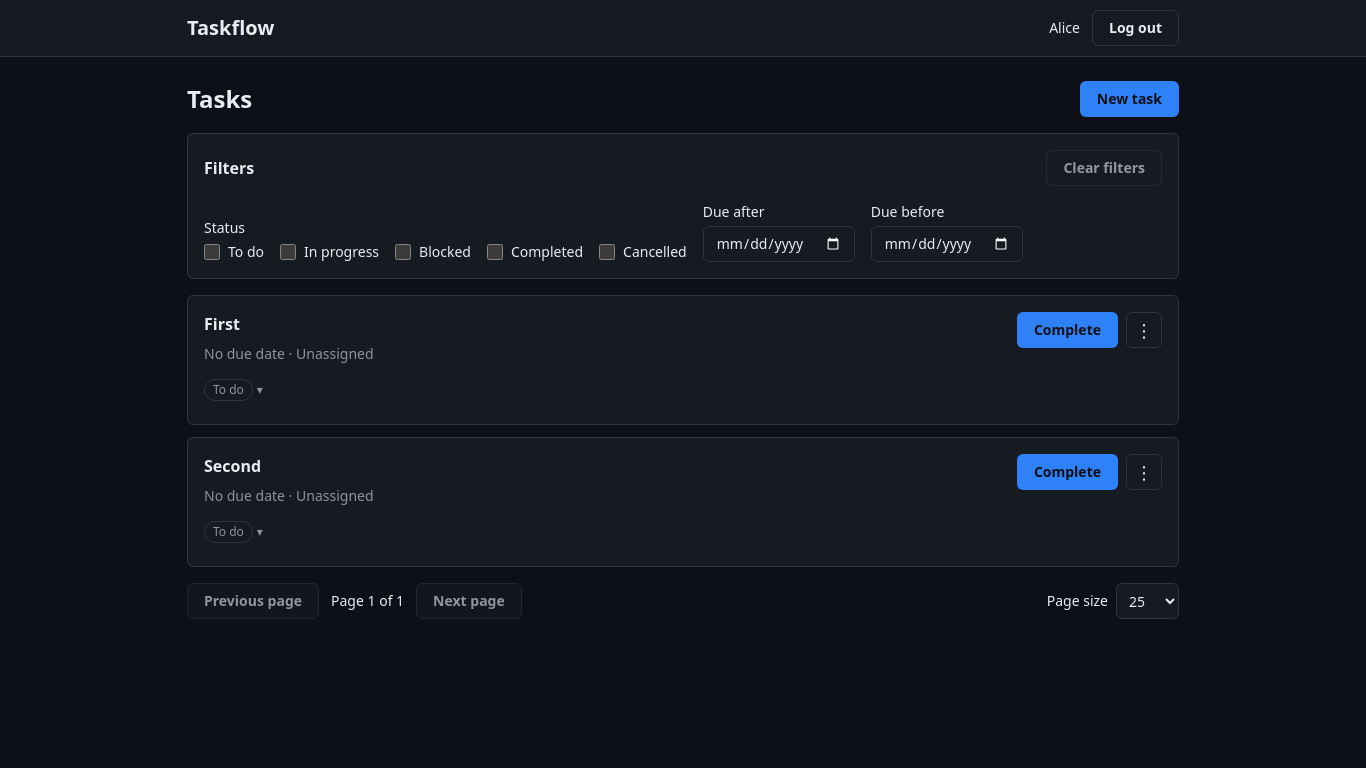
it: card actions menu › test_ac03_clicking_outside_closes_the_menu_and_opening_another_closes_the_first
What coordinates should you click on to do the following:
click the button named "actions for"
I would click on:
 (1144, 330)
Its box is [1126,312,1162,348].
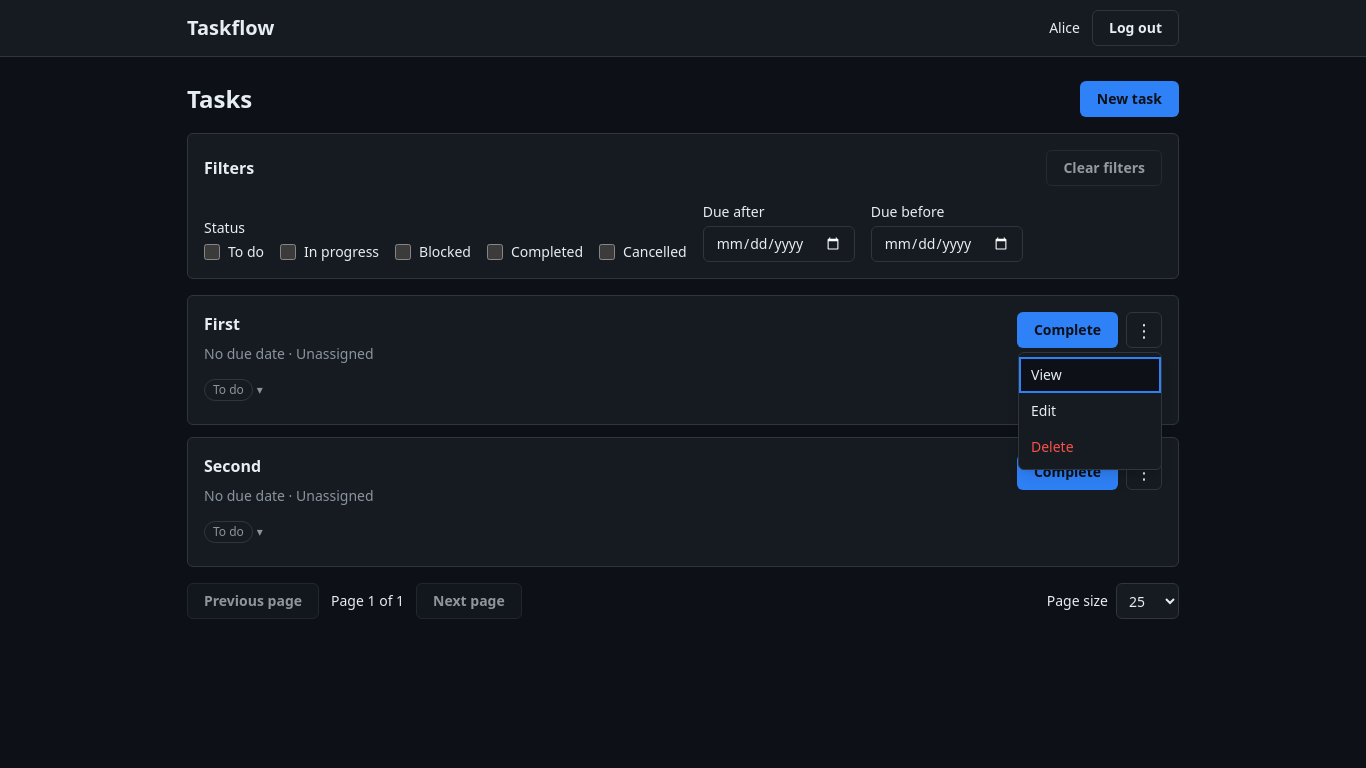
What coordinates should you click on to do the following:
click the button named "actions for"
I would click on:
 (1144, 472)
Its box is [1126,454,1162,490].
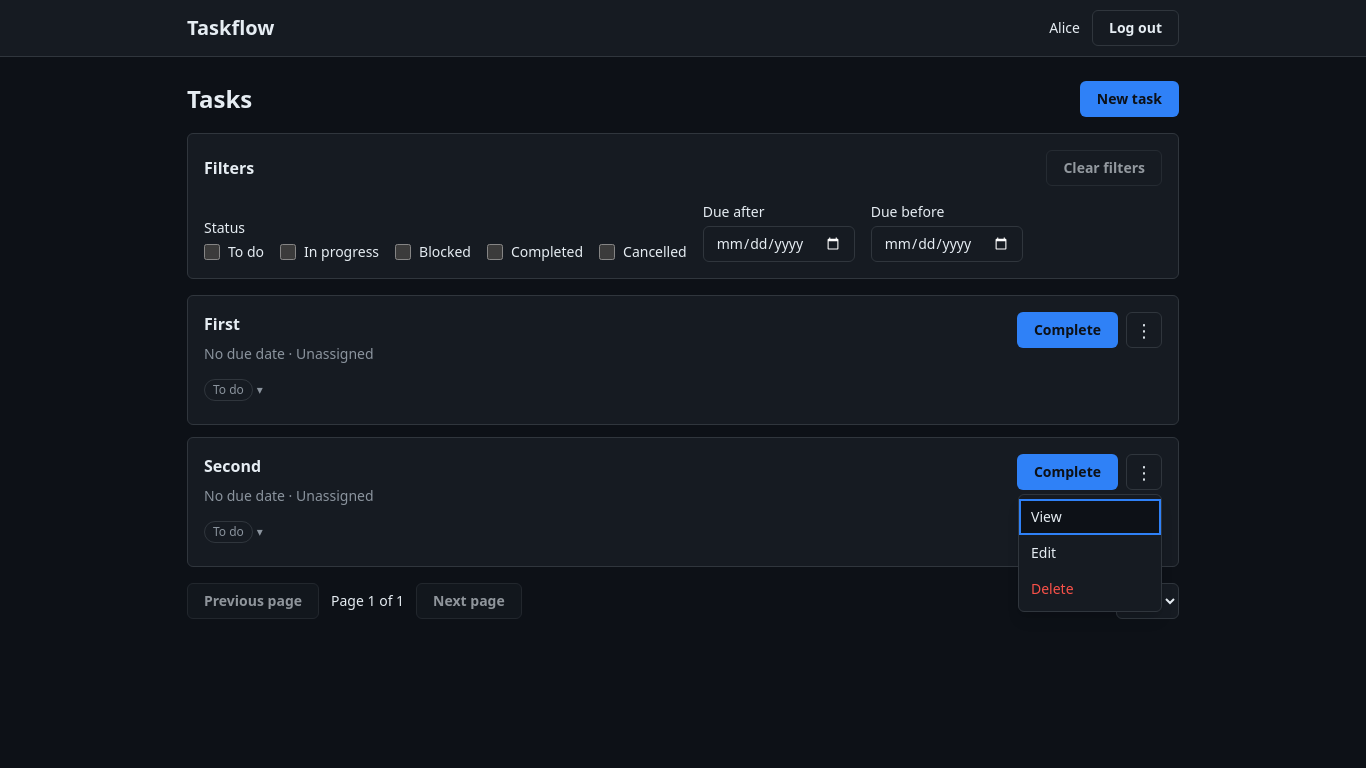
Now the number of menus is 1, box [1018,494,1162,612]
What coordinates should you click on to do the following:
click the heading "Tasks"
I would click on:
 (220, 99)
Its box is [187,83,252,115].
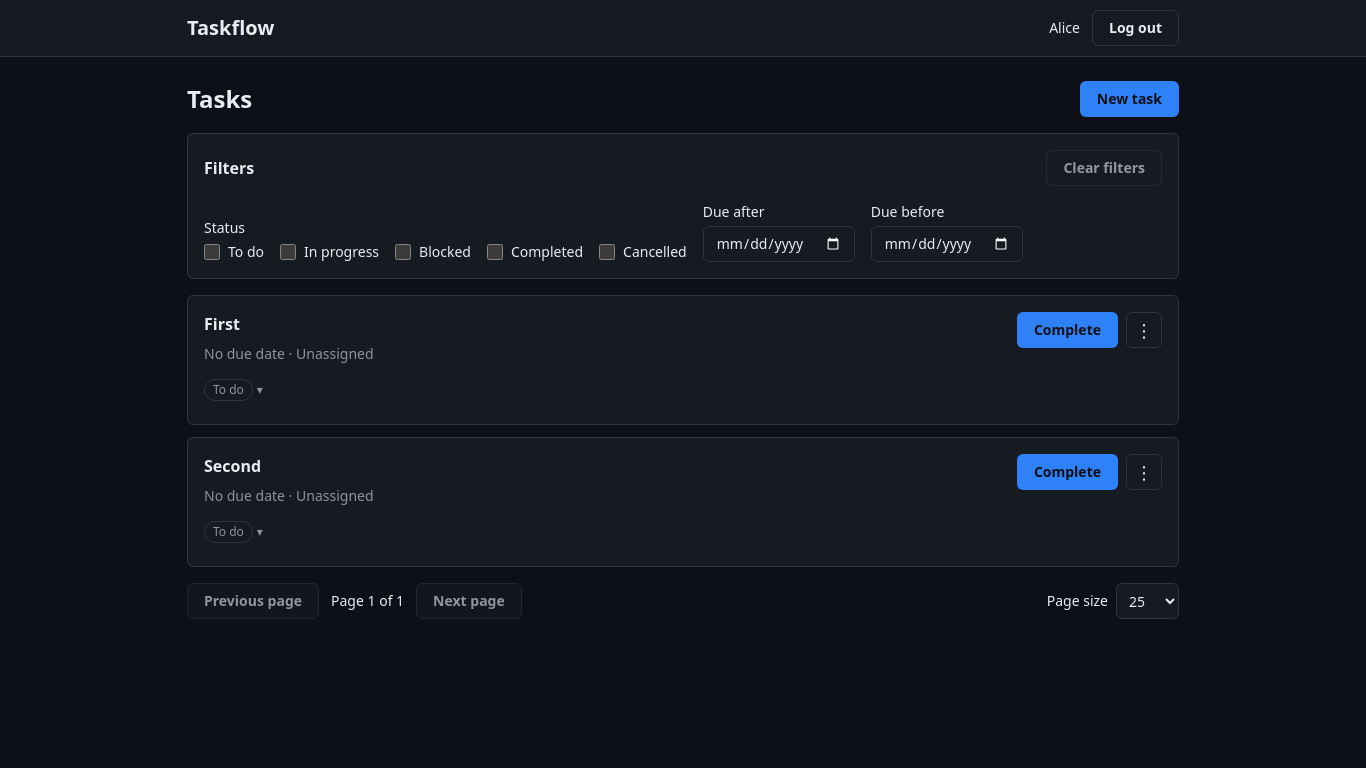
Now the menu is gone
